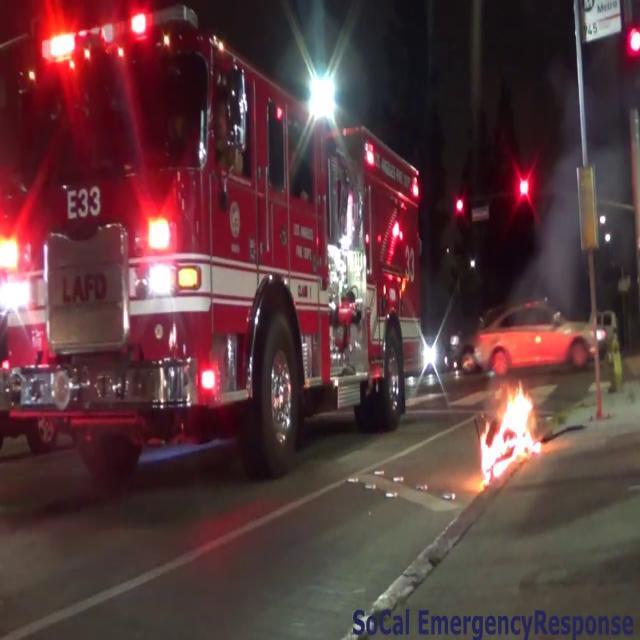Fire: (472, 378, 546, 486)
Smoke: (530, 54, 640, 294)
